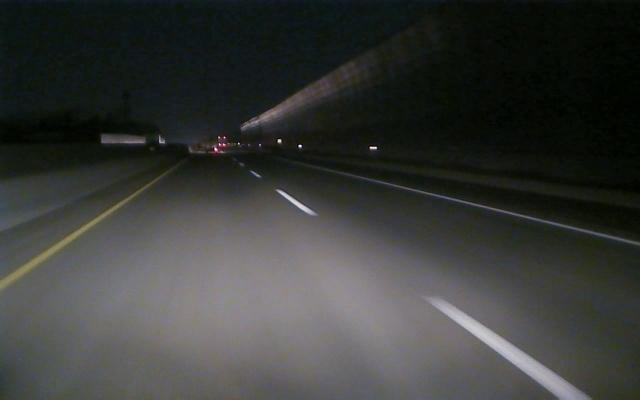lane: (275, 189, 594, 400), (354, 174, 639, 247), (2, 180, 155, 289)
